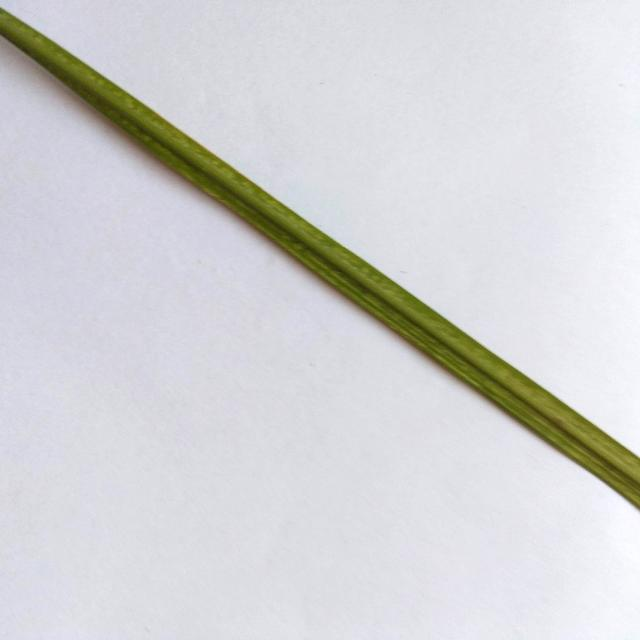Rice_Healthy: (0, 10, 640, 507)
